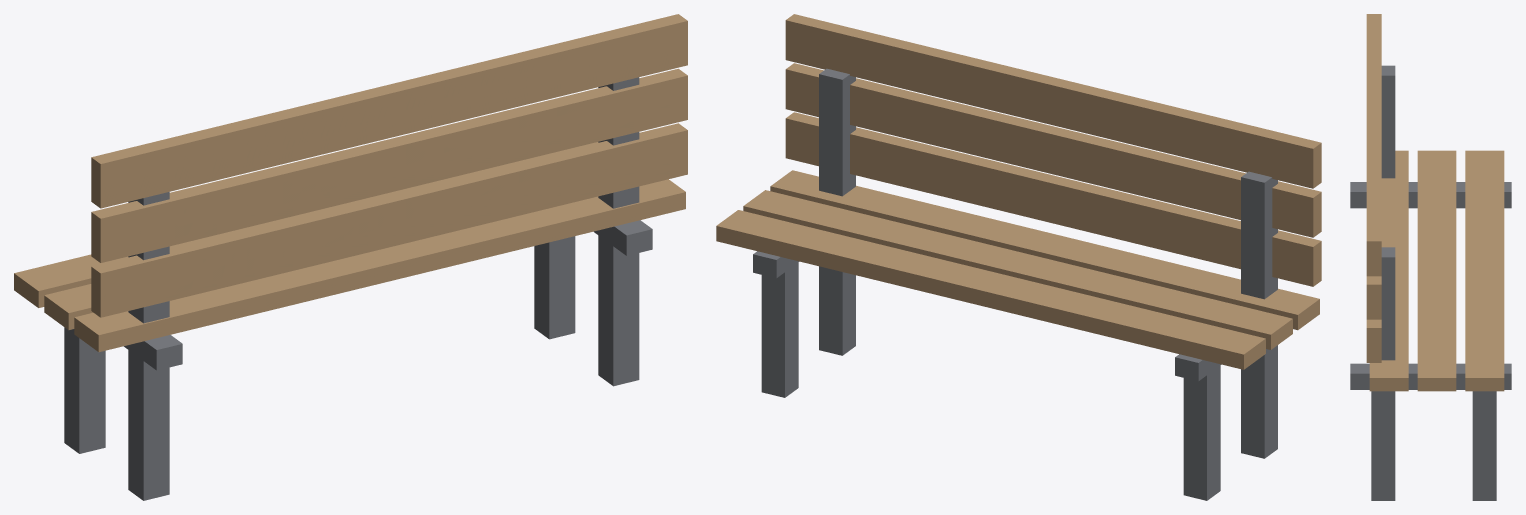
File: golf-course-and-clubhouse-teeing-ground-bench-95d94411__33471.glb
3 views of the same model, side by side, from view 1: azimuth 30°, elevation 25°; view 2: azimuth 150°, elevation 25°; view 3: azimuth 270°, elevation 25° (orthographic). The views are drawn at different scales.
Parts seen in each view (by area): view 1: teeing-ground-bench; view 2: teeing-ground-bench; view 3: teeing-ground-bench.
Part boxes in pixels (x1,y1,x2,y2): teeing-ground-bench: [14, 14, 687, 500]; teeing-ground-bench: [716, 14, 1321, 500]; teeing-ground-bench: [1350, 14, 1511, 500].
Size of the model in its own units: 1.8 by 1.03 by 0.54.
